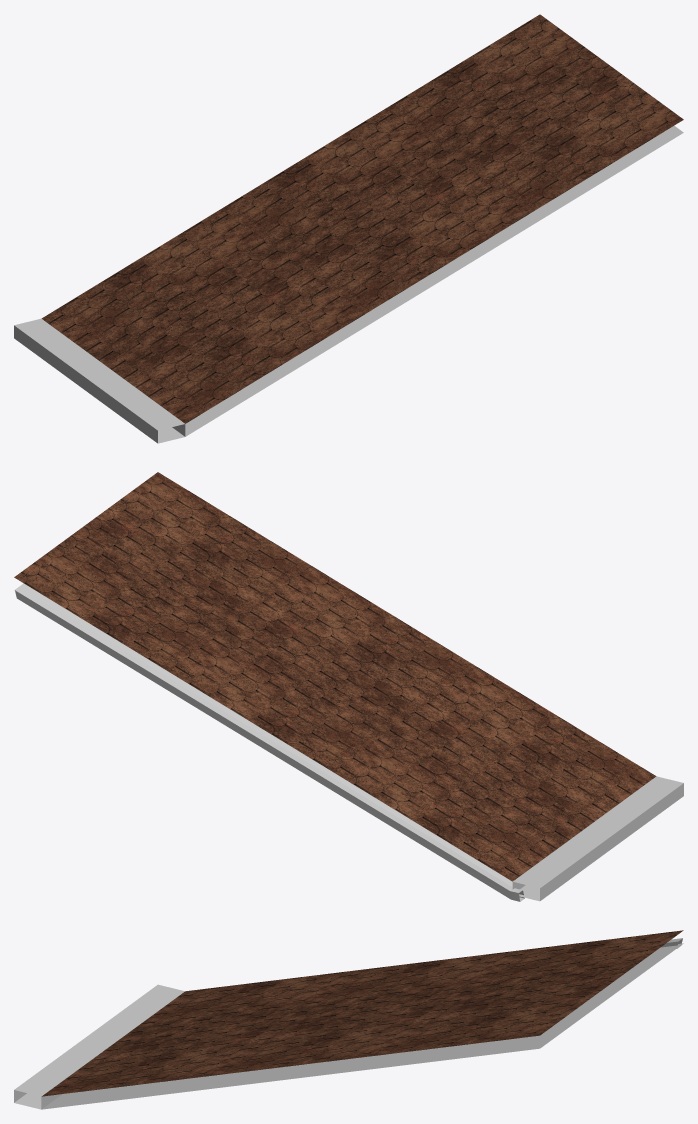
File: SHED_ROOF_SEGMENT_A.fbx
The picture shows the model from 3 angles, top to bottom: view 1: azimuth 30°, elevation 25°; view 2: azimuth 150°, elevation 25°; view 3: azimuth 330°, elevation 25°; orthographic projection.
Visible parts, largest first — view 1: SHED_ROOF_SEGMENT_A; view 2: SHED_ROOF_SEGMENT_A; view 3: SHED_ROOF_SEGMENT_A.
Boxes of the visible parts, bbox=[...] form: SHED_ROOF_SEGMENT_A: bbox=[14, 14, 683, 443]; SHED_ROOF_SEGMENT_A: bbox=[14, 472, 683, 901]; SHED_ROOF_SEGMENT_A: bbox=[14, 930, 683, 1109].
Bounding box in the file's own units: 3.8 × 1.37 × 1.83.
